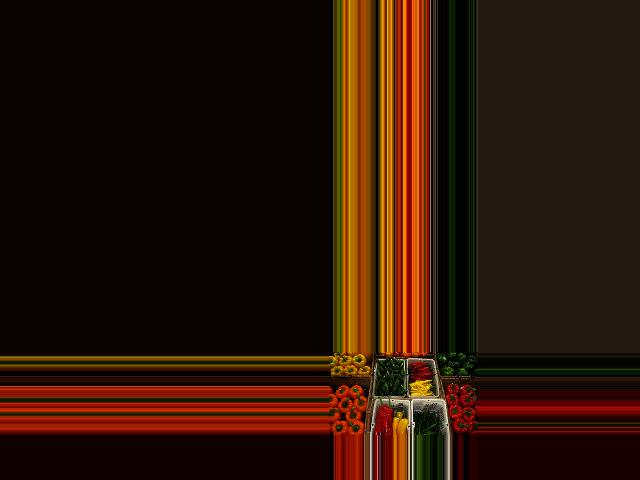bell_pepper: (455, 363, 469, 378)
